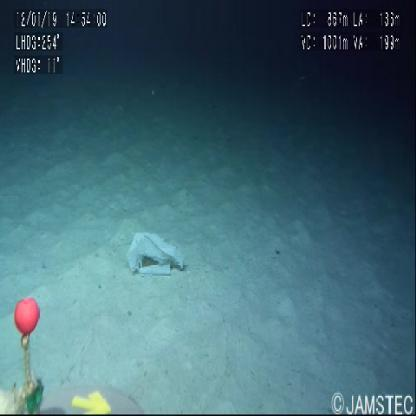Rác: (127, 233, 184, 277)
